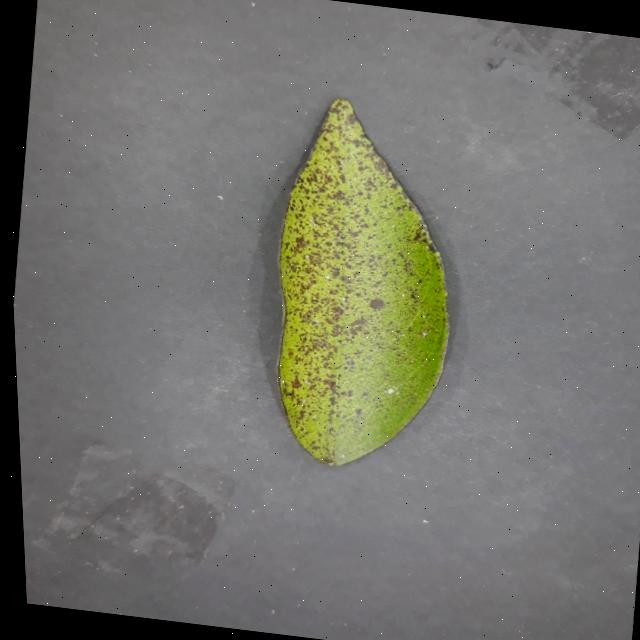greasy_spot: (277, 97, 448, 464)
